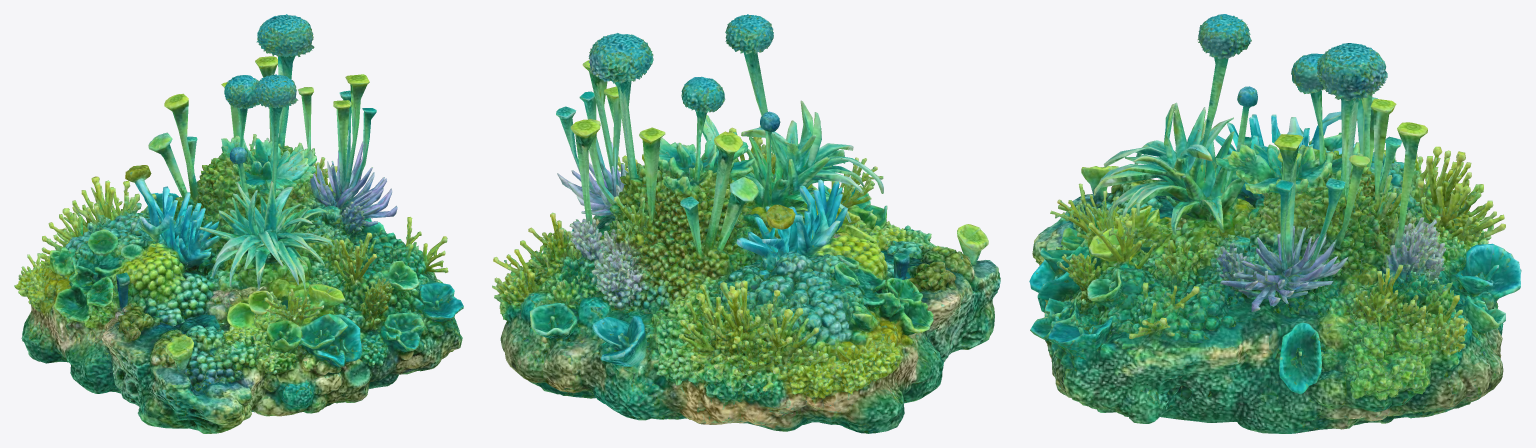
File: alien-coral-ground.glb
3 views of the same model, side by side, from view 1: azimuth 30°, elevation 25°; view 2: azimuth 150°, elevation 25°; view 3: azimuth 270°, elevation 25° (orthographic). The views are drawn at different scales.
Size of the model in its own units: 1.87 by 1.47 by 1.89.
1 material, 1 textured.
